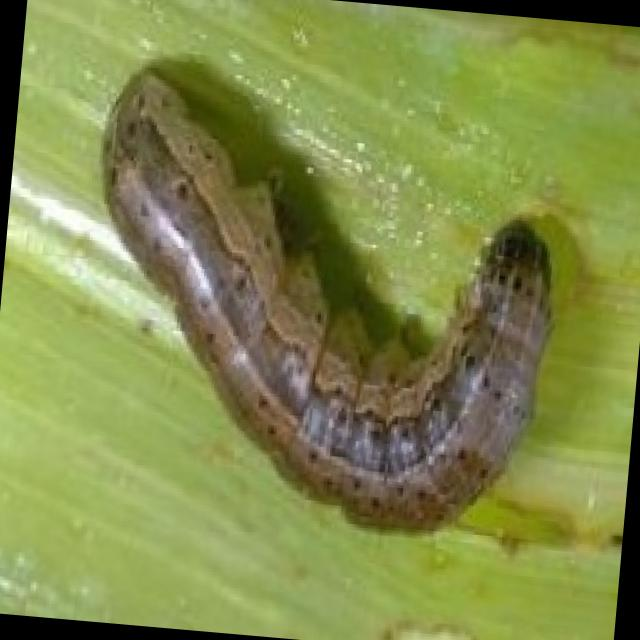armyworm: (43, 59, 578, 564)
